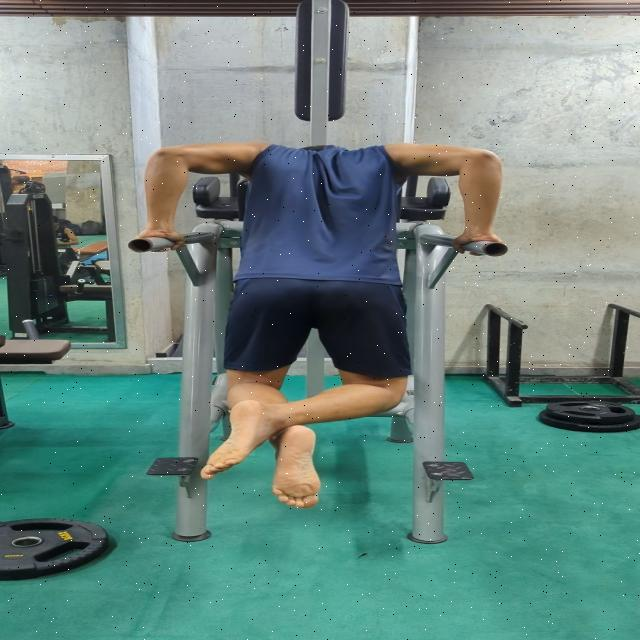Normal_Dips: (95, 110, 524, 515)
